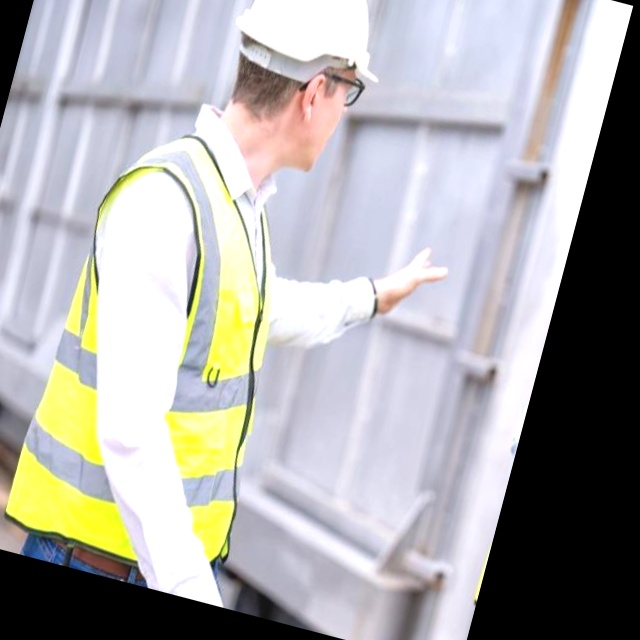Con_Casco: (205, 0, 403, 181)
Con_Chaleco: (0, 111, 331, 588)
